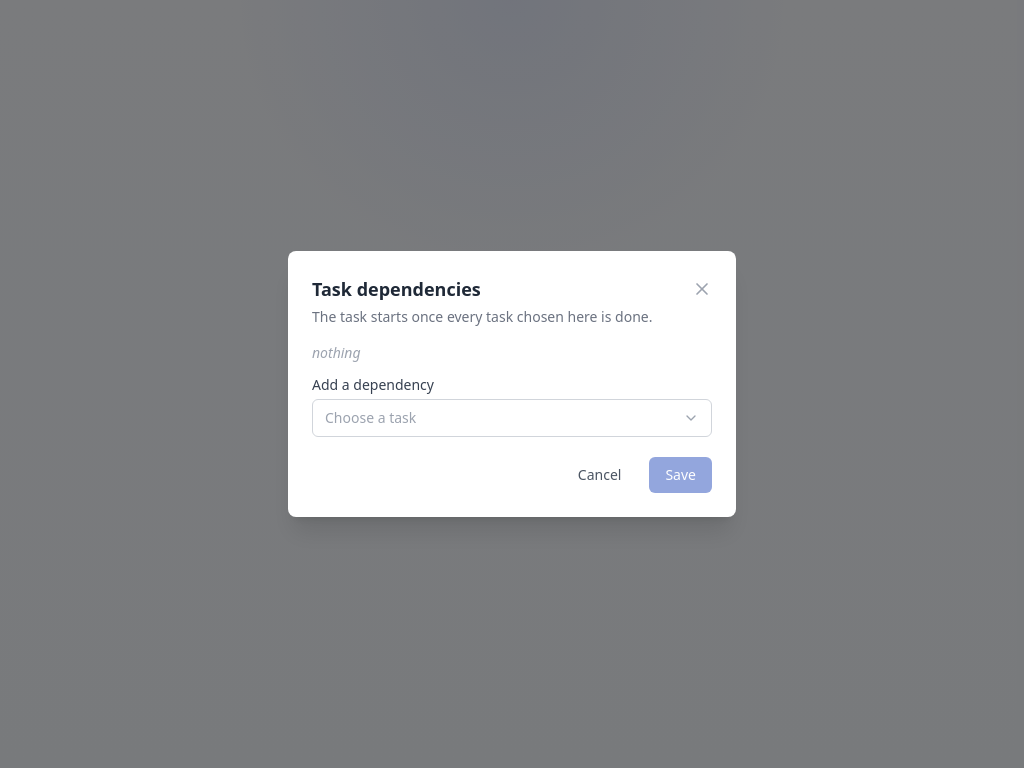
Test: DependsEditor › shows the server refusing a cycle and stays open
The width and height of the screenshot is (1024, 768).
Click the button with test id "depends-picker" at point(371, 418), box [312, 399, 712, 437]
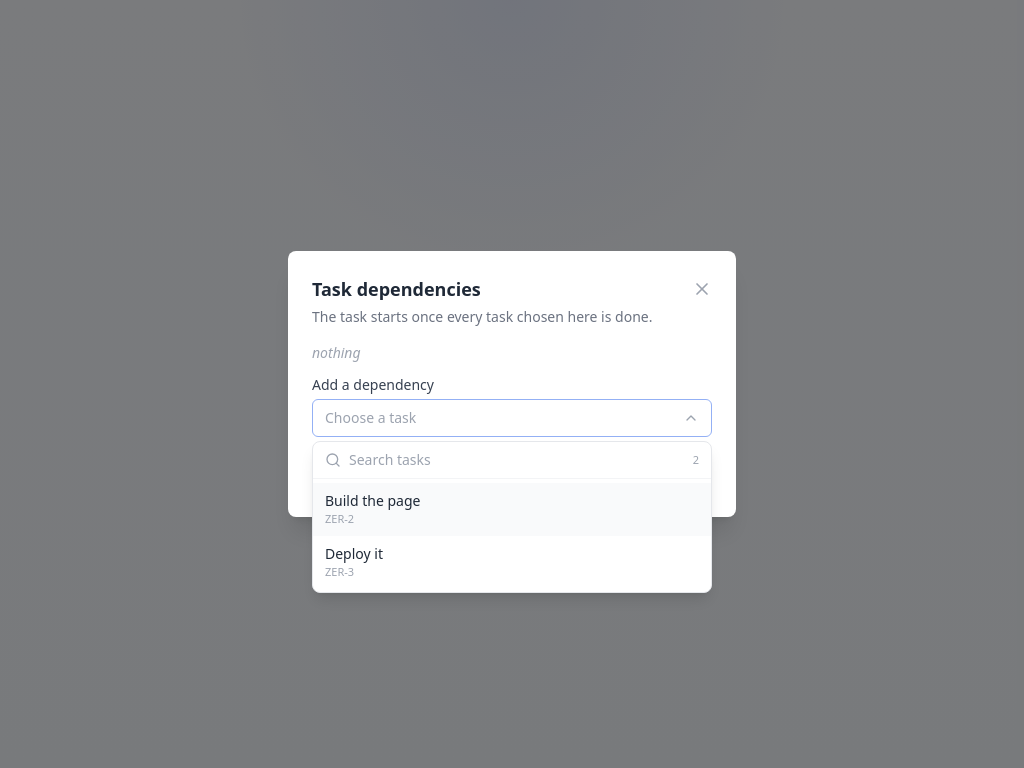
Click the option "Deploy it ZER-3" at point(354, 553), box [313, 536, 711, 588]
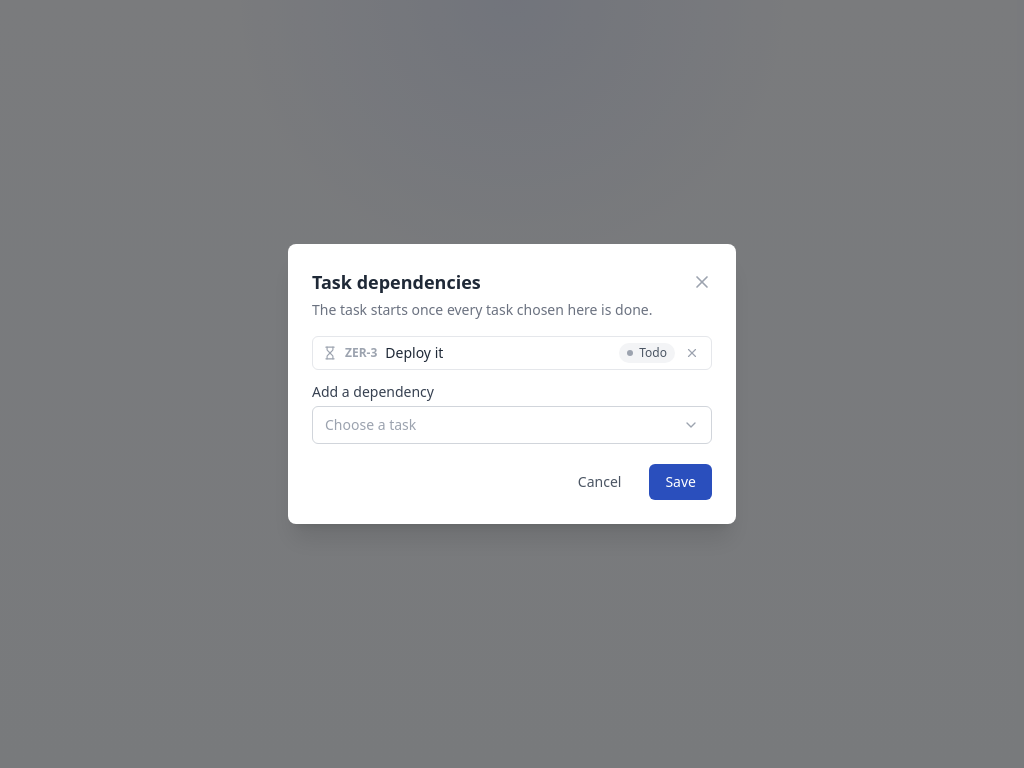
Click the button "Save" at point(681, 482), box [649, 464, 712, 500]
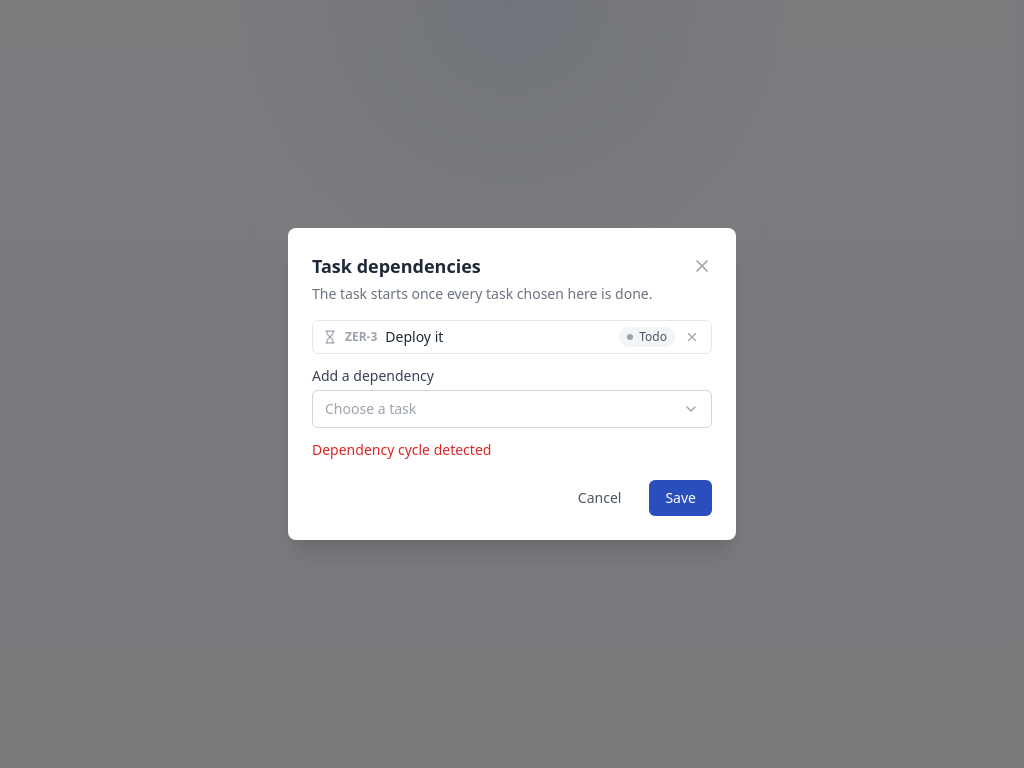
Expected: the text "Dependency cycle detected" is shown, [312, 440, 491, 459]
